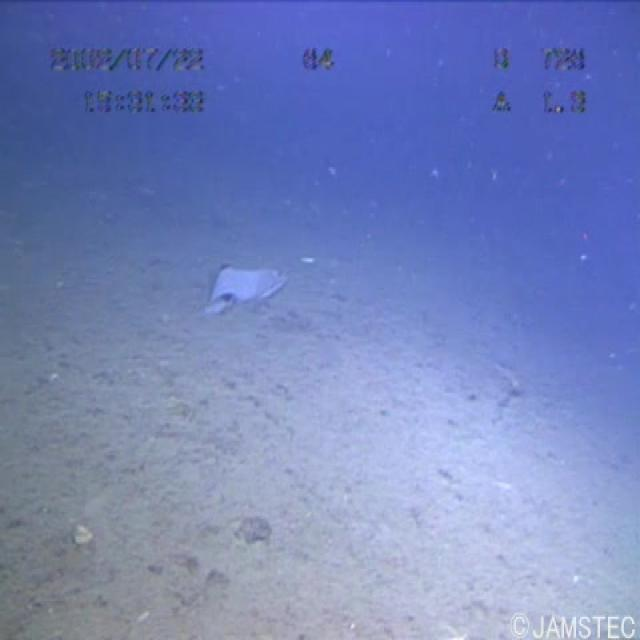plastic: (207, 249, 293, 316)
